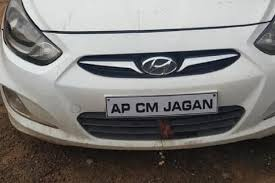number_plate: (93, 89, 232, 119)
